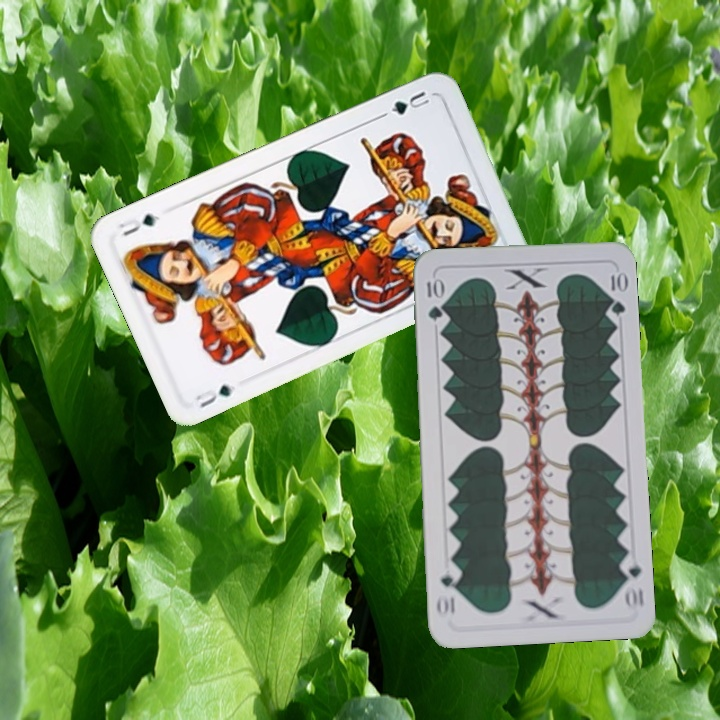G10: (617, 553, 646, 613), (422, 274, 444, 323)
GU: (191, 380, 238, 410), (387, 87, 432, 118)
